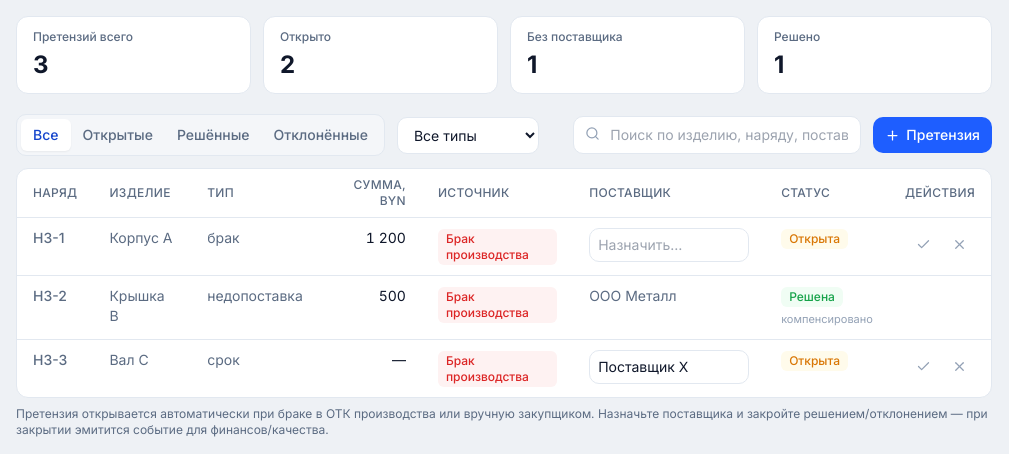
Test: ClaimsPanel › сегмент «Решённые» оставляет только решённые претензии
The image size is (1009, 454).
Check: the text "Корпус A" is shown, box left=94, top=218, right=191, bottom=276
Click the button "Решённые" at (213, 135), box left=165, top=119, right=262, bottom=151
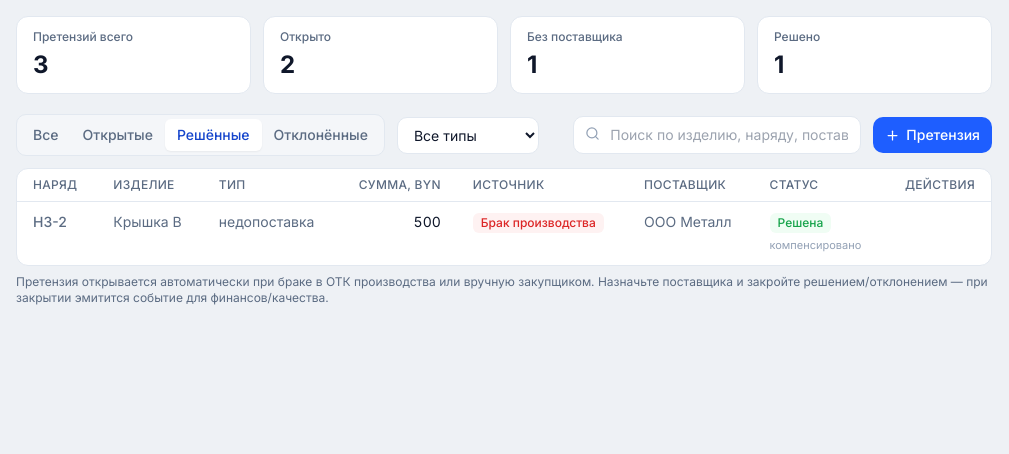
Check: the text "Крышка B" is shown, box left=97, top=202, right=203, bottom=265
Check: the text "Корпус A" is gone
Check: the text "Вал C" is gone
